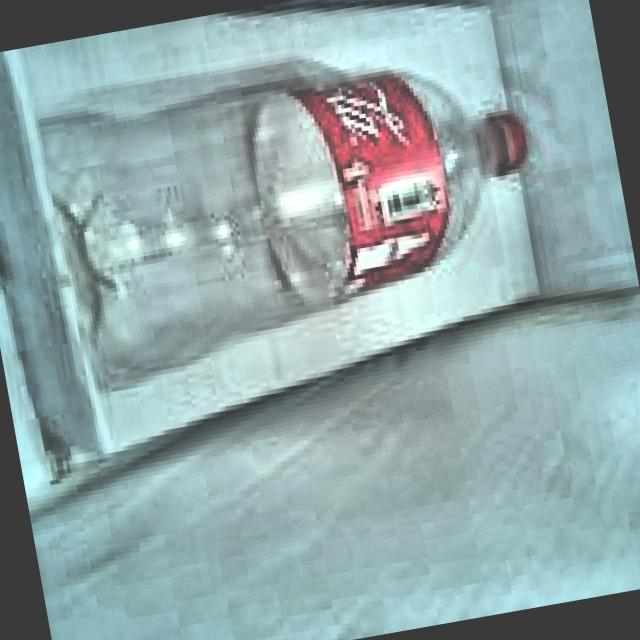plastic bottle: (39, 71, 524, 384)
